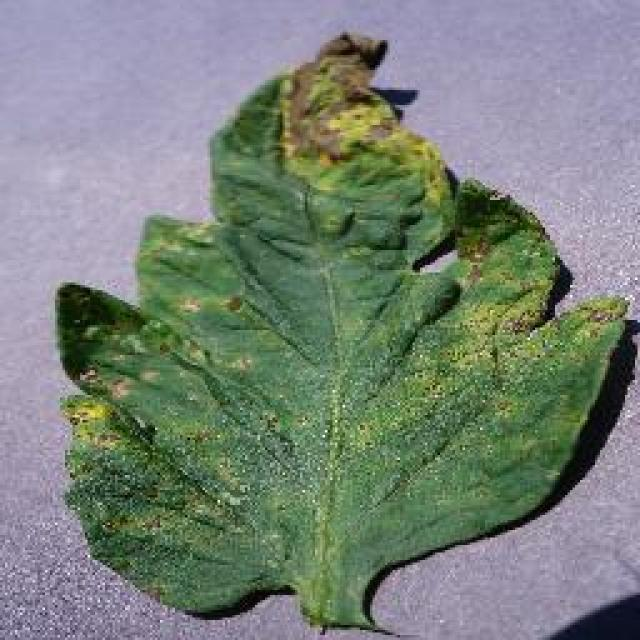Tomato Septoria spot leaf: (54, 31, 628, 614)
